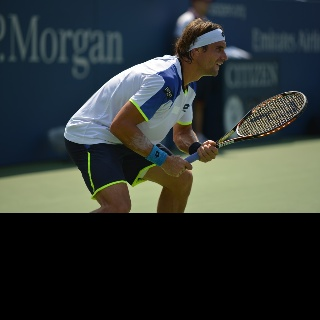without_mask: (200, 39, 228, 77)
